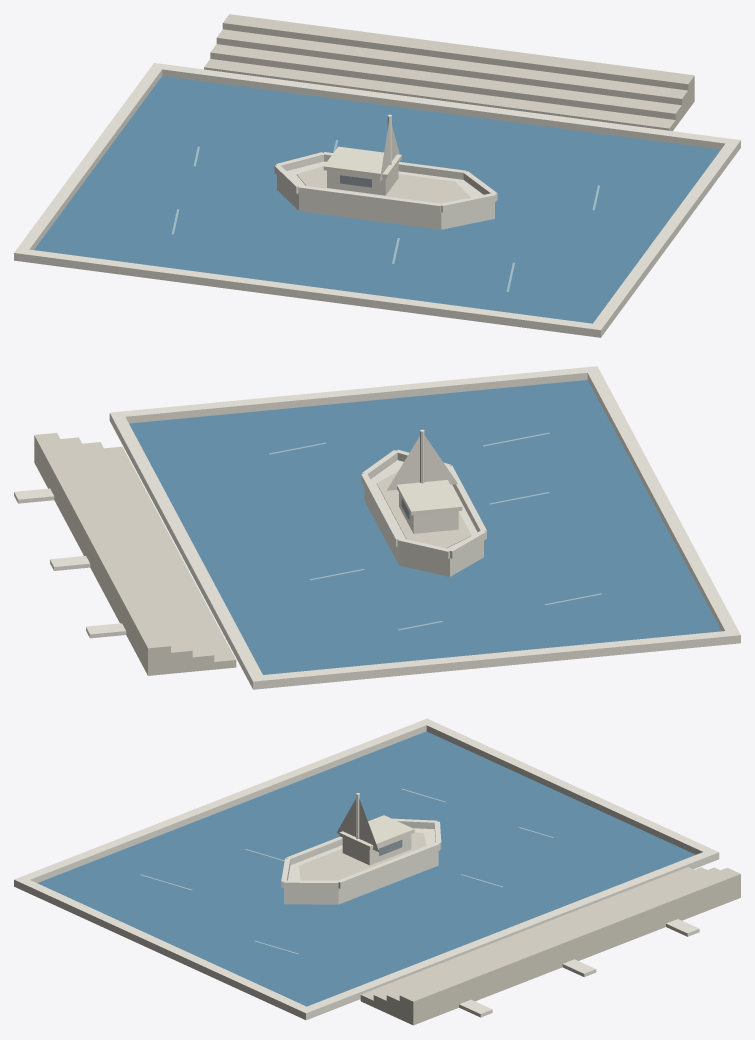
File: water-play.glb
The picture shows the model from 3 angles, top to bottom: view 1: azimuth 30°, elevation 25°; view 2: azimuth 150°, elevation 25°; view 3: azimuth 270°, elevation 25°; orthographic projection. The views are drawn at different scales.
Visible parts, largest first — view 1: Water play rectangular basin and white boat; view 2: Water play rectangular basin and white boat; view 3: Water play rectangular basin and white boat.
Part boxes in pixels (x1=…): Water play rectangular basin and white boat: x1=14, y1=14, x2=740, y2=337; Water play rectangular basin and white boat: x1=14, y1=366, x2=740, y2=689; Water play rectangular basin and white boat: x1=14, y1=718, x2=740, y2=1025.
Size of the model in its own units: 30.3 by 3.88 by 30.98.
